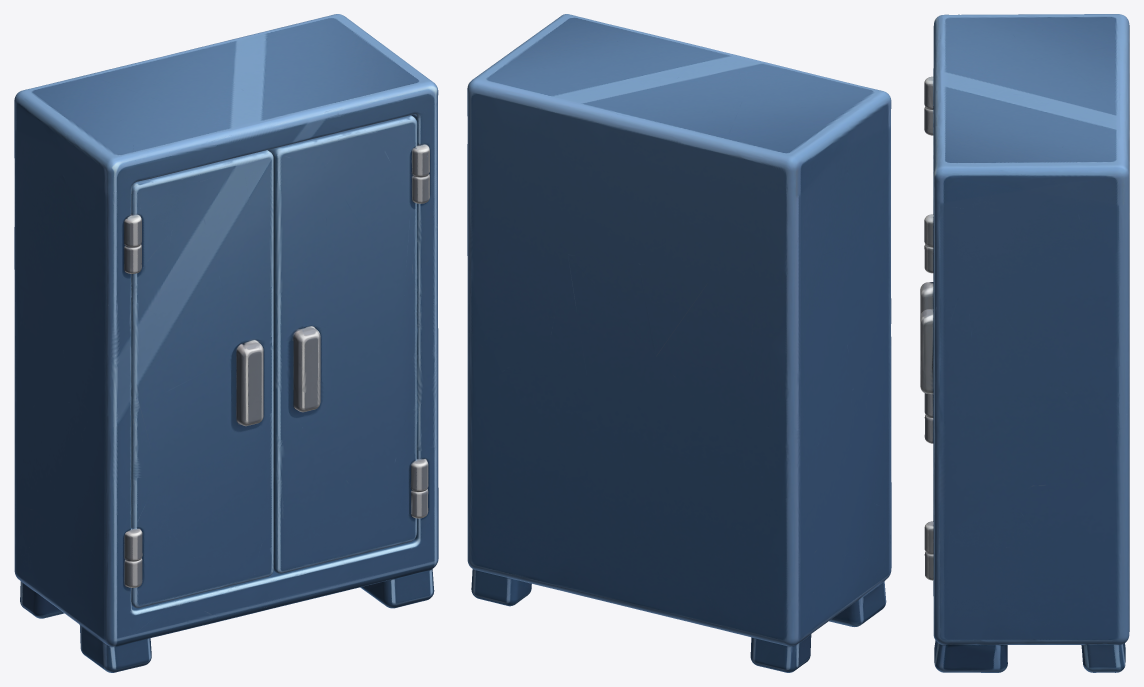
Rendered from cabinet.glb.
3 renders of one model, left to right at view 1: azimuth 30°, elevation 25°; view 2: azimuth 150°, elevation 25°; view 3: azimuth 270°, elevation 25°, orthographic. The views are drawn at different scales.
Bounding box in the file's own units: 1.27 × 1.9 × 0.7095.
1 material, 1 textured.
